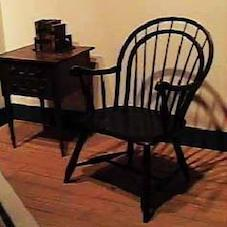chair: (52, 8, 215, 196)
